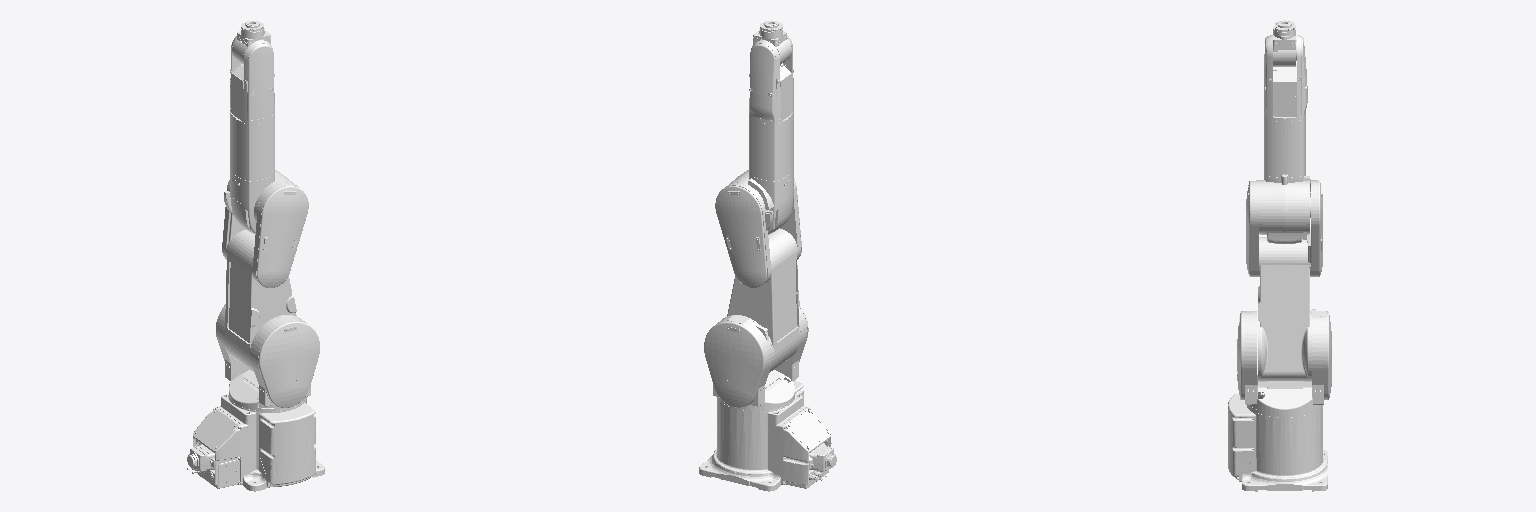
The robot description file, URDF, robot "rv7frl":
<?xml version="1.0" ?>
<robot name="rv7frl">
    <material name="white">
        <color rgba="1.0 1.0 1.0 1.0"/>
    </material>
    <joint name="rv7frl_world_to_base" type="fixed">
        <origin xyz="0 0 0" rpy="0 0 0" />
        <parent link="world" />
        <child link="rv7frl_base" />
    </joint>
    <joint name="rv7frl_hand_flange-to-default_tcp" type="fixed">
        <origin xyz="0 0 0" rpy="0 0 0" />
        <parent link="rv7frl_hand_flange" />
        <child link="rv7frl_default_tcp" />
    </joint>
    <joint name="rv7frl_joint_1" type="revolute">
        <axis xyz="0 0 1" />
        <limit lower="-4.188790" upper="4.188790" effort="1" velocity="5.026548" />
        <origin xyz="0 0 0" rpy="0 0 0" />
        <parent link="rv7frl_base" />
        <child link="rv7frl_shoulder" />
    </joint>
    <joint name="rv7frl_joint_2" type="revolute">
        <axis xyz="0 1 0" />
        <limit lower="-1.919862" upper="2.268928" effort="1" velocity="5.602507" />
        <origin xyz="0 0 0.4" rpy="0 0 0" />
        <parent link="rv7frl_shoulder" />
        <child link="rv7frl_upper_arm" />
    </joint>
    <joint name="rv7frl_joint_3" type="revolute">
        <axis xyz="0 1 0" />
        <limit lower="0.000000" upper="2.827433" effort="1" velocity="6.283185" />
        <origin xyz="0 0 0.435" rpy="0 0 0" />
        <parent link="rv7frl_upper_arm" />
        <child link="rv7frl_elbow" />
    </joint>
    <joint name="rv7frl_joint_4" type="revolute">
        <axis xyz="0 0 1" />
        <limit lower="-3.490659" upper="3.490659" effort="1" velocity="5.881760" />
        <origin xyz="-0.05 0 0" rpy="0 0 0" />
        <parent link="rv7frl_elbow" />
        <child link="rv7frl_forearm" />
    </joint>
    <joint name="rv7frl_joint_5" type="revolute">
        <axis xyz="0 1 0" />
        <limit lower="-2.094395" upper="2.094395" effort="1" velocity="7.853981" />
        <origin xyz="0 0 0.47" rpy="0 0 0" />
        <parent link="rv7frl_forearm" />
        <child link="rv7frl_wrist" />
    </joint>
    <joint name="rv7frl_joint_6" type="revolute">
        <axis xyz="0 0 1" />
        <limit lower="-6.283185" upper="6.283185" effort="1" velocity="12.566371" />
        <origin xyz="0 0 0.085" rpy="0 0 0" />
        <parent link="rv7frl_wrist" />
        <child link="rv7frl_hand_flange" />
    </joint>
    <link name="rv7frl_base">
        <visual>
            <material name="white"/>
            <geometry>
                <mesh filename="package://melfa_description/meshes/rv7frl/base.STL" />
            </geometry>
            <origin rpy="0 0 0" xyz="0 0 0"/>
        </visual>
        <collision>
            <geometry>
                <mesh filename="package://melfa_description/meshes/rv7frl/base.STL" />
            </geometry>
            <origin rpy="0 0 0" xyz="0 0 0"/>
        </collision>
    </link>
    <link name="rv7frl_default_tcp" />
    <link name="rv7frl_elbow">
        <visual>
            <material name="white"/>
            <geometry>
                <mesh filename="package://melfa_description/meshes/rv7frl/elbow.STL" />
            </geometry>
            <origin rpy="0 0 0" xyz="0 0 0"/>
        </visual>
        <collision>
            <geometry>
                <mesh filename="package://melfa_description/meshes/rv7frl/elbow.STL" />
            </geometry>
            <origin rpy="0 0 0" xyz="0 0 0"/>
        </collision>
    </link>
    <link name="rv7frl_forearm">
        <visual>
            <material name="white"/>
            <geometry>
                <mesh filename="package://melfa_description/meshes/rv7frl/forearm.STL" />
            </geometry>
            <origin rpy="0 0 0" xyz="0 0 0"/>
        </visual>
        <collision>
            <geometry>
                <mesh filename="package://melfa_description/meshes/rv7frl/forearm.STL" />
            </geometry>
            <origin rpy="0 0 0" xyz="0 0 0"/>
        </collision>
    </link>
    <link name="rv7frl_hand_flange">
        <visual>
            <material name="white"/>
            <geometry>
                <mesh filename="package://melfa_description/meshes/rv7frl/hand_flange.STL" />
            </geometry>
            <origin rpy="0 0 0" xyz="0 0 0"/>
        </visual>
        <collision>
            <geometry>
                <mesh filename="package://melfa_description/meshes/rv7frl/hand_flange.STL" />
            </geometry>
            <origin rpy="0 0 0" xyz="0 0 0"/>
        </collision>
    </link>
    <link name="rv7frl_shoulder">
        <visual>
            <material name="white"/>
            <geometry>
                <mesh filename="package://melfa_description/meshes/rv7frl/shoulder.STL" />
            </geometry>
            <origin rpy="0 0 0" xyz="0 0 0"/>
        </visual>
        <collision>
            <geometry>
                <mesh filename="package://melfa_description/meshes/rv7frl/shoulder.STL" />
            </geometry>
            <origin rpy="0 0 0" xyz="0 0 0"/>
        </collision>
    </link>
    <link name="rv7frl_upper_arm">
        <visual>
            <material name="white"/>
            <geometry>
                <mesh filename="package://melfa_description/meshes/rv7frl/upper_arm.STL" />
            </geometry>
            <origin rpy="0 0 0" xyz="0 0 0"/>
        </visual>
        <collision>
            <geometry>
                <mesh filename="package://melfa_description/meshes/rv7frl/upper_arm.STL" />
            </geometry>
            <origin rpy="0 0 0" xyz="0 0 0"/>
        </collision>
    </link>
    <link name="rv7frl_wrist">
        <visual>
            <material name="white"/>
            <geometry>
                <mesh filename="package://melfa_description/meshes/rv7frl/wrist.STL" />
            </geometry>
            <origin rpy="0 0 0" xyz="0 0 0"/>
        </visual>
        <collision>
            <geometry>
                <mesh filename="package://melfa_description/meshes/rv7frl/wrist.STL" />
            </geometry>
            <origin rpy="0 0 0" xyz="0 0 0"/>
        </collision>
    </link>
    <link name="world" />
</robot>

--- Facts derived from the render (not from the file) ---
Views: 3 orthographic renders of the robot side by side, from view 1: azimuth 30°, elevation 25°; view 2: azimuth 150°, elevation 25°; view 3: azimuth 270°, elevation 25°.
Model rv7frl with 9 links and 8 joints (6 revolute, 2 fixed), rooted at world, posed all joints at 0.
Visible links, largest first — view 1: rv7frl_upper_arm, rv7frl_base, rv7frl_shoulder, rv7frl_forearm, rv7frl_elbow, rv7frl_wrist; view 2: rv7frl_upper_arm, rv7frl_base, rv7frl_shoulder, rv7frl_forearm, rv7frl_elbow, rv7frl_wrist; view 3: rv7frl_upper_arm, rv7frl_base, rv7frl_shoulder, rv7frl_forearm, rv7frl_elbow, rv7frl_wrist.
Link boxes in pixels (<box>): rv7frl_upper_arm: <box>222,180,308,372</box>; rv7frl_base: <box>187,394,324,491</box>; rv7frl_shoulder: <box>216,304,319,410</box>; rv7frl_forearm: <box>230,36,274,180</box>; rv7frl_elbow: <box>227,169,296,234</box>; rv7frl_wrist: <box>232,21,270,64</box>; rv7frl_upper_arm: <box>715,179,801,372</box>; rv7frl_base: <box>699,381,836,491</box>; rv7frl_shoulder: <box>704,306,808,410</box>; rv7frl_forearm: <box>749,35,793,180</box>; rv7frl_elbow: <box>730,169,793,234</box>; rv7frl_wrist: <box>753,21,791,64</box>; rv7frl_upper_arm: <box>1246,180,1322,380</box>; rv7frl_base: <box>1228,394,1327,491</box>; rv7frl_shoulder: <box>1237,309,1331,417</box>; rv7frl_forearm: <box>1264,35,1307,179</box>; rv7frl_elbow: <box>1259,172,1310,243</box>; rv7frl_wrist: <box>1273,21,1295,66</box>.
Bounding box of the posed robot: 0.377 × 0.297 × 1.39 m (x, y, z).
7 mesh visuals loaded from 7 distinct referenced files (7 binary STL).
